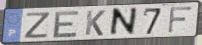7: (143, 7, 164, 35)
E: (51, 9, 81, 39)
F: (166, 5, 194, 35)
K: (84, 10, 107, 37)
N: (107, 6, 139, 38)
Z: (23, 12, 53, 40)
